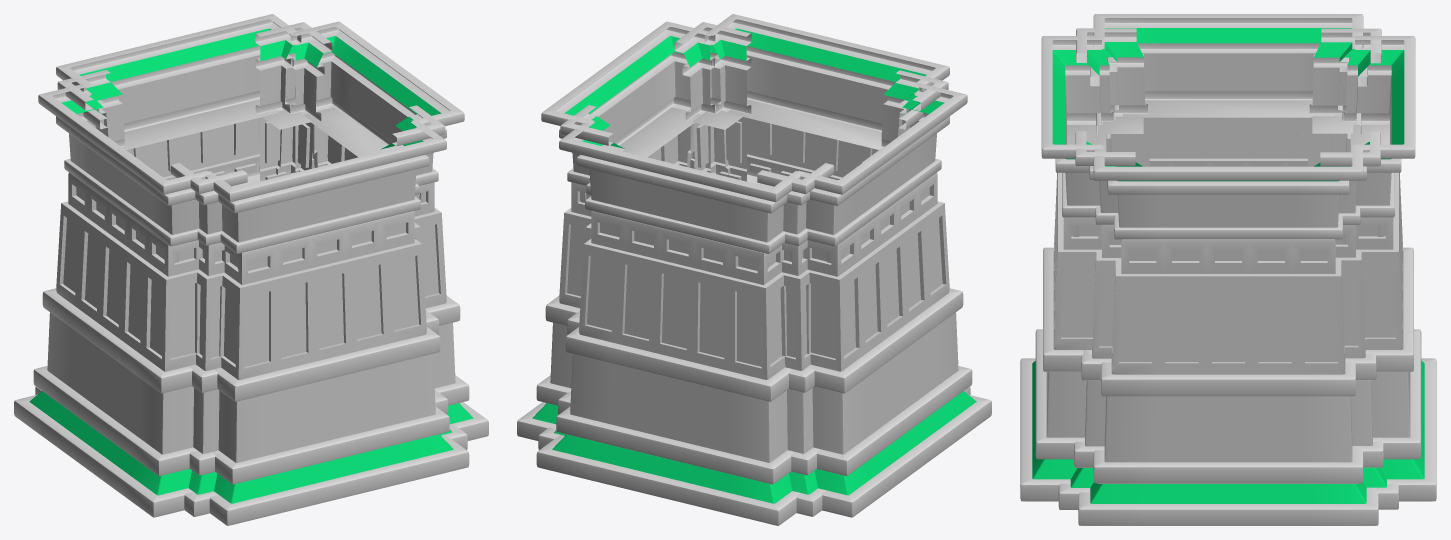
File: RoofParts.fbx
3 renders of one model, left to right at view 1: azimuth 30°, elevation 25°; view 2: azimuth 150°, elevation 25°; view 3: azimuth 270°, elevation 25°, orthographic. The views are drawn at different scales.
Visible parts, largest first — view 1: Object104; view 2: Object104; view 3: Object104.
Boxes of the visible parts, x1,y1,x2,y2 form: Object104: (14, 14, 488, 525); Object104: (517, 14, 991, 525); Object104: (1020, 14, 1436, 525).
Bounding box in the file's own units: 181 × 181 × 166.
